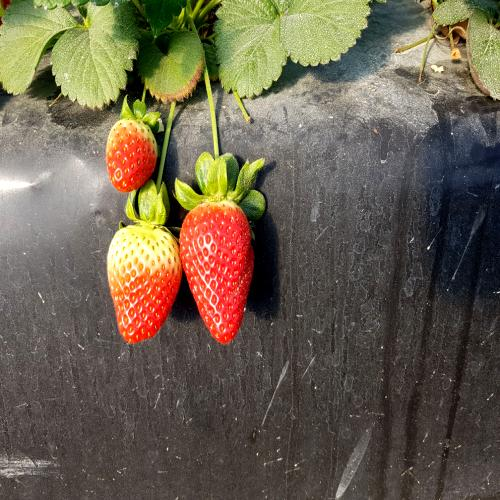partially-ripe: (100, 105, 165, 209)
ripe: (179, 199, 265, 341)
unripe: (107, 214, 179, 355)
